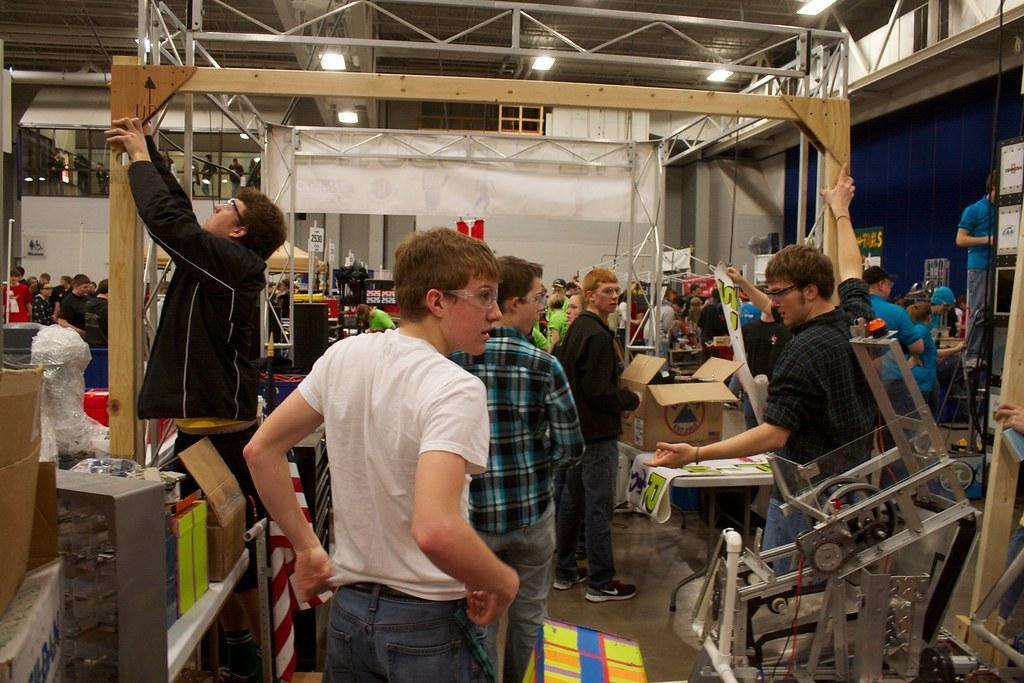robot: (681, 303, 992, 683)
